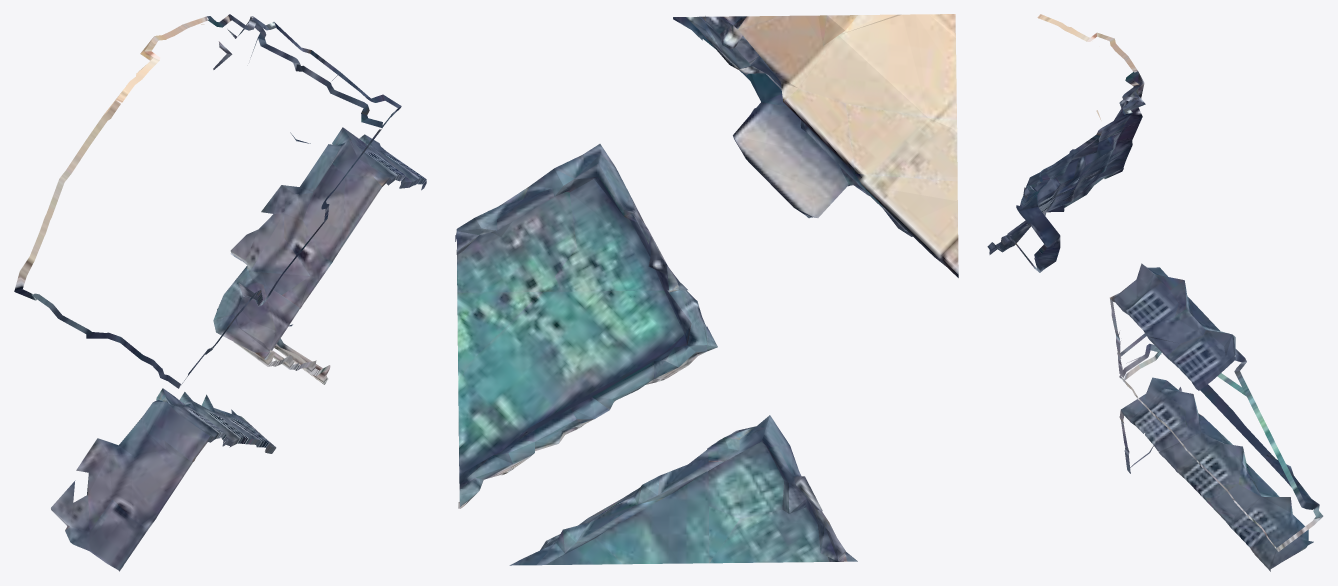
The picture shows the model from 3 angles, left to right: view 1: azimuth 30°, elevation 25°; view 2: azimuth 150°, elevation 25°; view 3: azimuth 270°, elevation 25°; orthographic projection. The views are drawn at different scales.
Size of the model in its own units: 36.83 by 41.43 by 28.21.
1 material, 1 textured.
